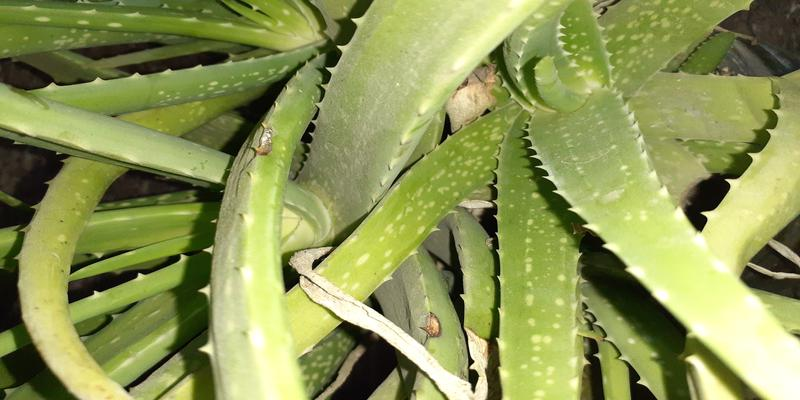Aloevera: (99, 8, 754, 383)
